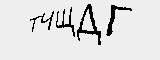Г: (105, 3, 132, 41)
Д: (76, 2, 103, 47)
Т: (26, 12, 42, 36)
Ч: (38, 7, 56, 35)
Щ: (54, 7, 76, 41)
